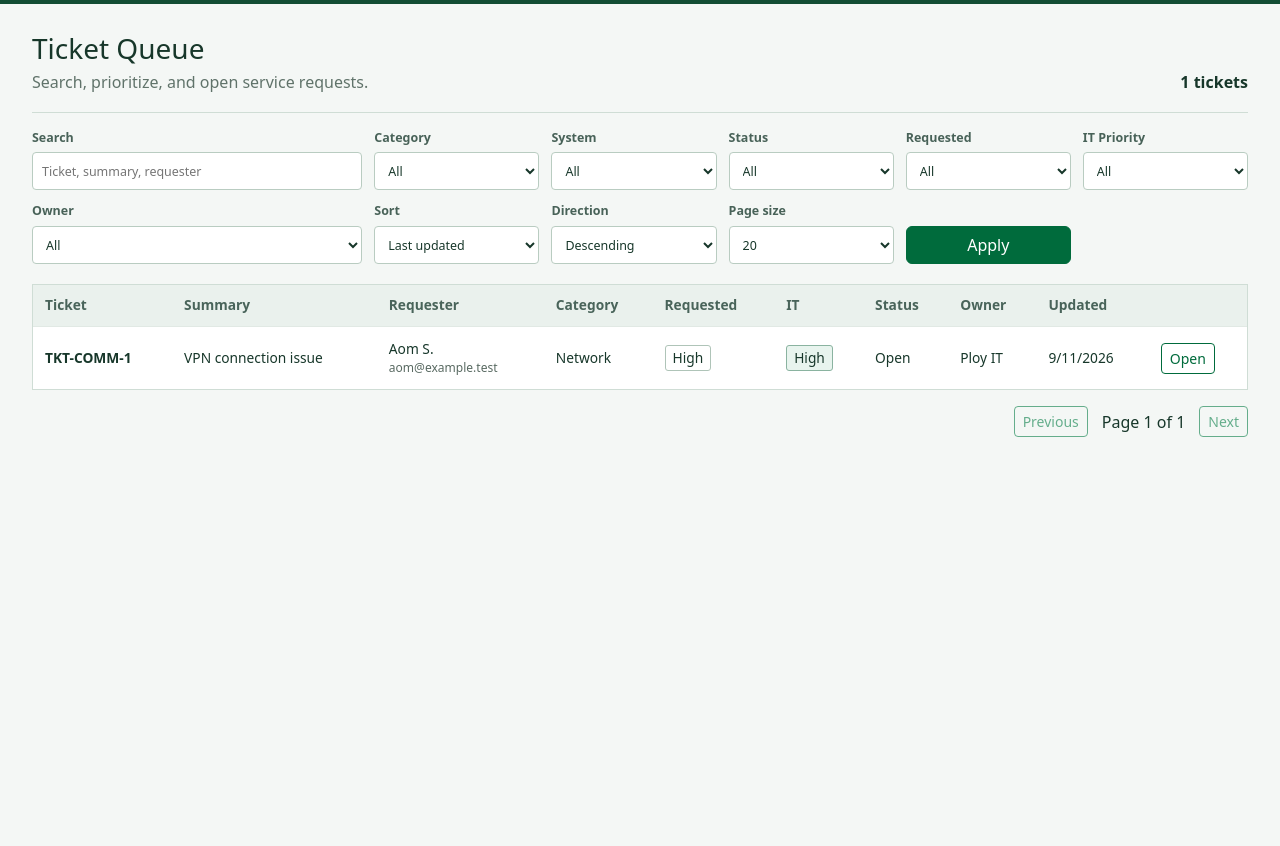
Lab 3 comments, notes, and resolution UI › reconciles a Staff Internal Note committed before its response is lost
The width and height of the screenshot is (1280, 846).
Click the button with aria-label "Open TKT-COMM-1" at (1188, 358), box [1161,342,1215,374]
(page scrolled)
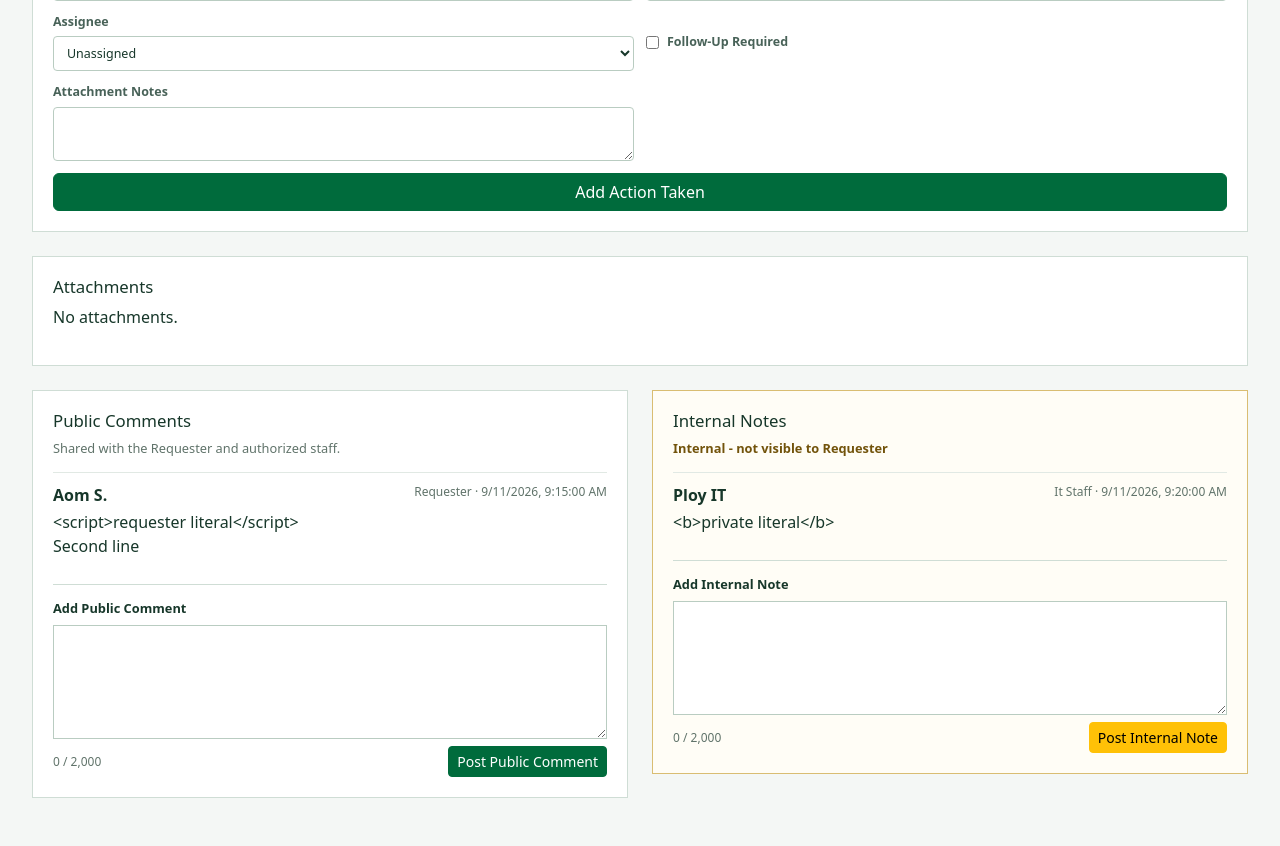
Type "Committed private note before response loss" into the text box labelled "Add Internal Note" at (950, 658), box [673,601,1227,715]
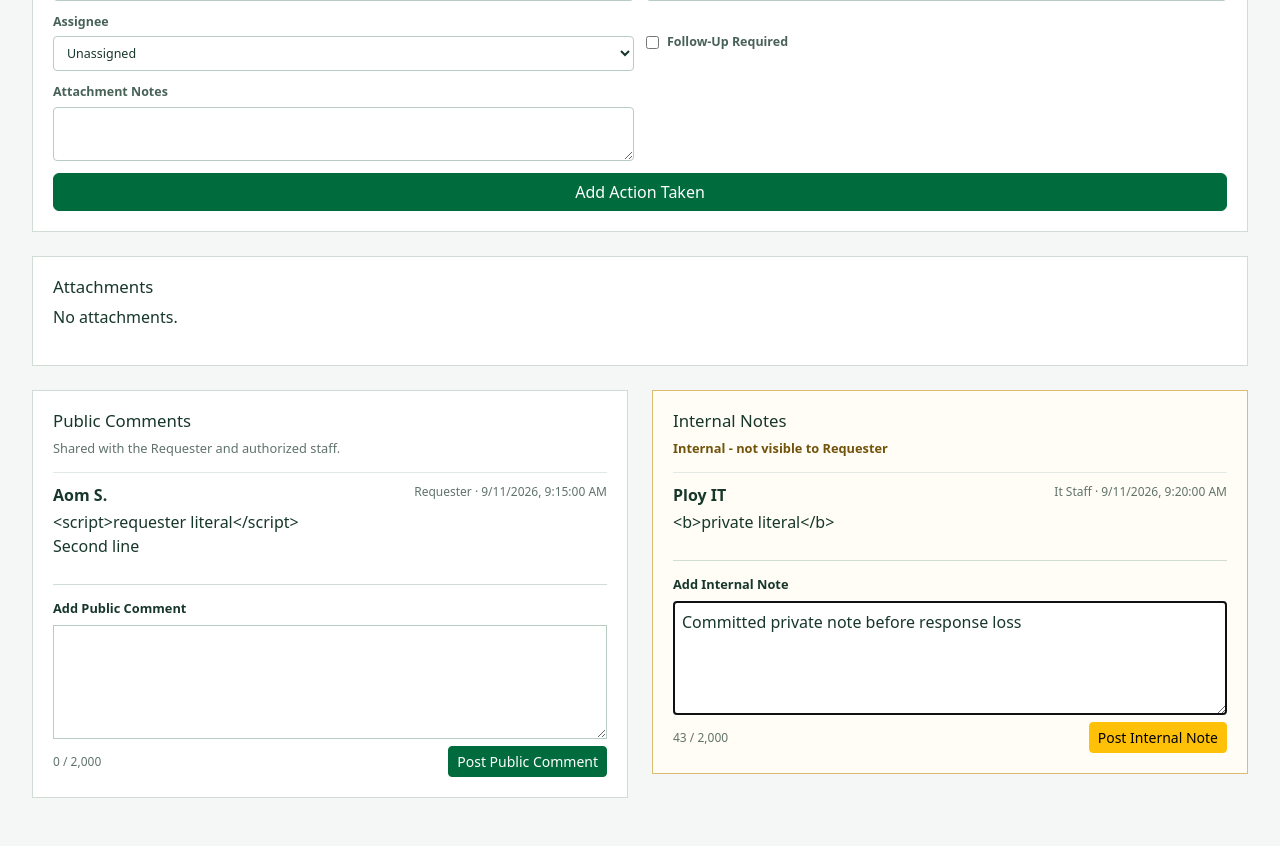
Click the button "Post Internal Note" at (1158, 738), box [1089,722,1227,753]
(page scrolled)
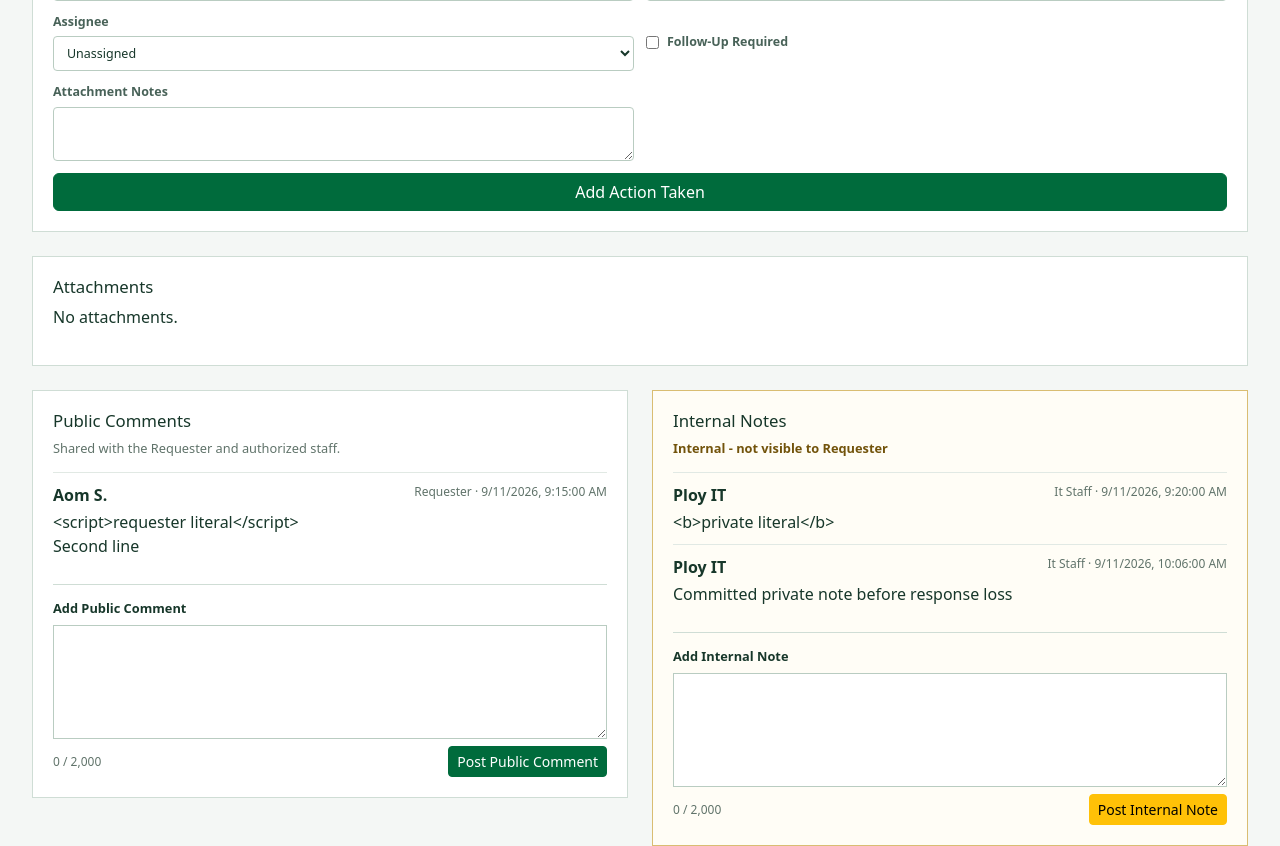
expect the text "Committed private note before response loss" is shown: met, box [673,583,1012,605]
expect the text box labelled "Add Internal Note" is empty: met, box [673,673,1227,787]
